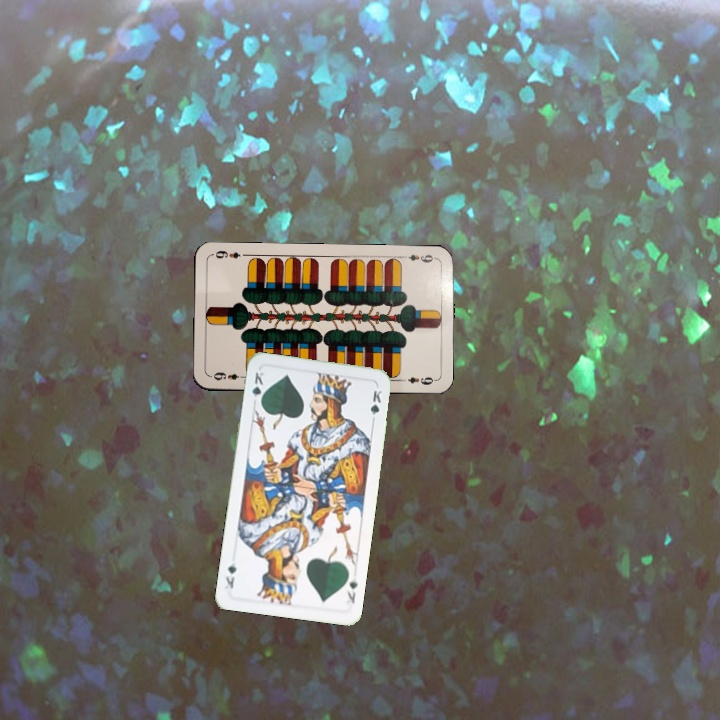E9: (398, 250, 438, 265), (209, 368, 248, 382)
GK: (248, 368, 266, 408), (342, 573, 360, 606)
